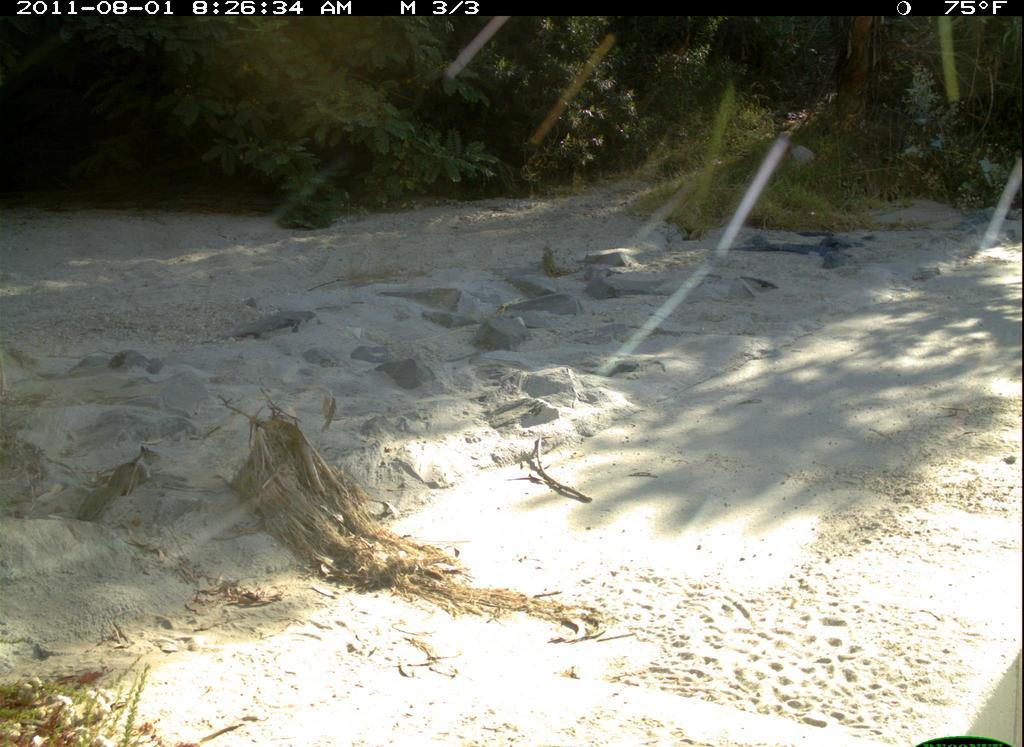squirrel: (76, 442, 166, 527)
